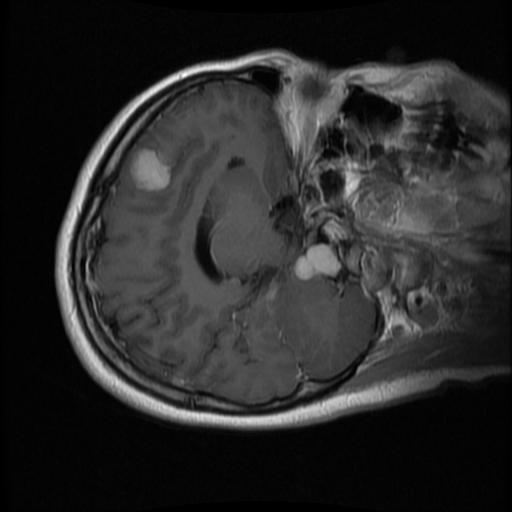meningioma: (127, 152, 171, 192)
